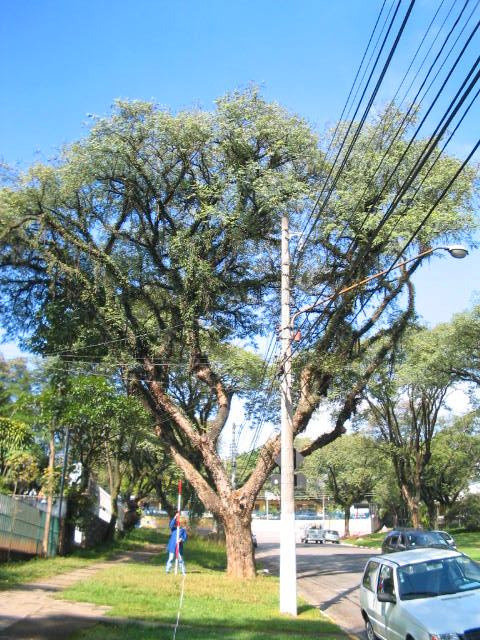crown: (3, 82, 479, 382)
stem: (207, 503, 271, 578)
stick: (170, 478, 185, 574)
tree: (1, 80, 480, 580)
